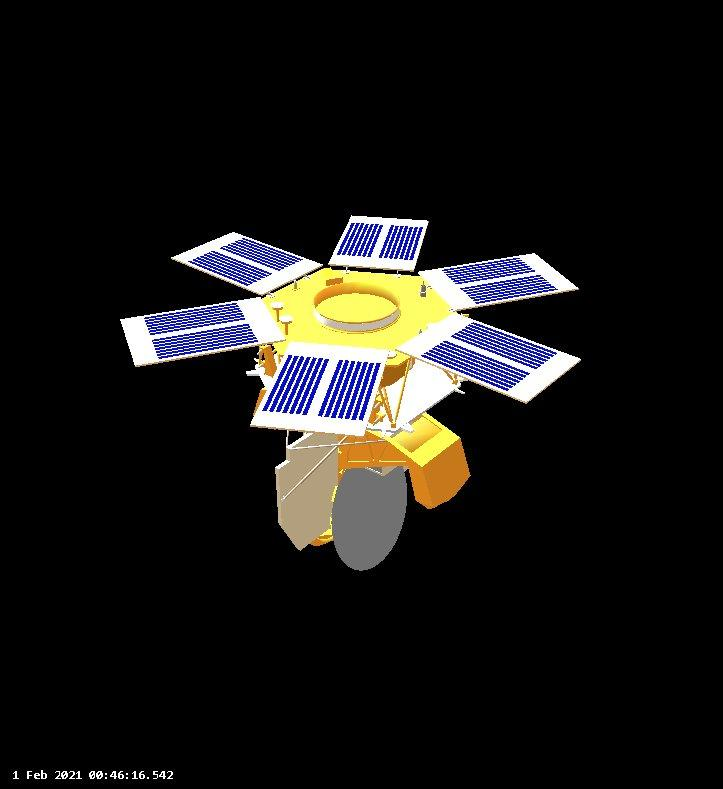antenna: (329, 455, 411, 575)
body: (255, 258, 469, 439)
solar: (397, 310, 583, 405), (115, 293, 291, 373), (250, 343, 389, 439), (418, 247, 584, 316), (170, 225, 324, 298), (325, 212, 432, 273)
